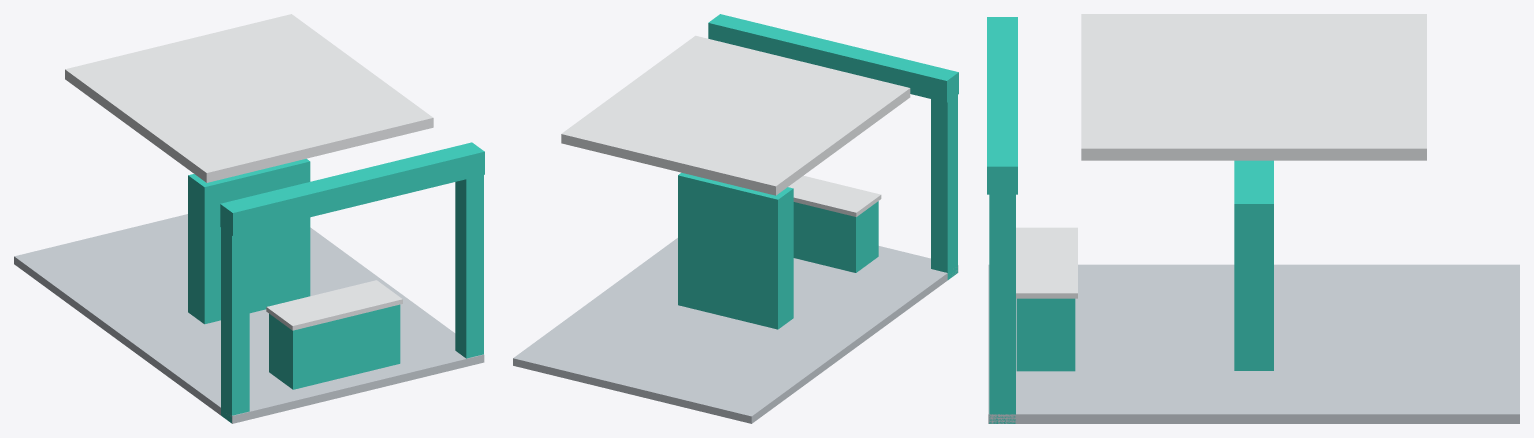
3 renders of one model, left to right at view 1: azimuth 30°, elevation 25°; view 2: azimuth 150°, elevation 25°; view 3: azimuth 270°, elevation 25°, orthographic. The views are drawn at different scales.
Visible parts, largest first — view 1: Exhibition Booth Concept; view 2: Exhibition Booth Concept; view 3: Exhibition Booth Concept.
Part boxes in pixels (x1,y1,x2,y2): Exhibition Booth Concept: (14,14,484,423); Exhibition Booth Concept: (513,14,958,423); Exhibition Booth Concept: (987,14,1519,423).
Bounding box in the file's own units: 4 × 3.34 × 6.02.
